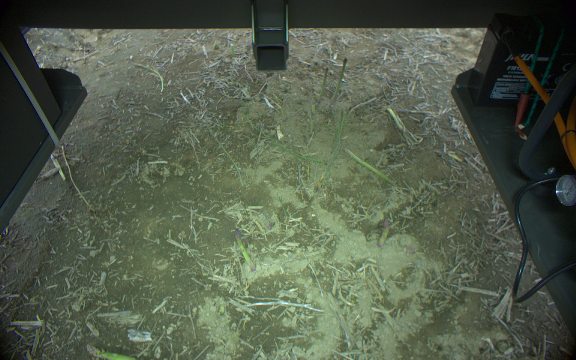aspa: (342, 148, 395, 186), (233, 228, 259, 273), (328, 54, 351, 104), (374, 217, 392, 247), (315, 63, 329, 101)
